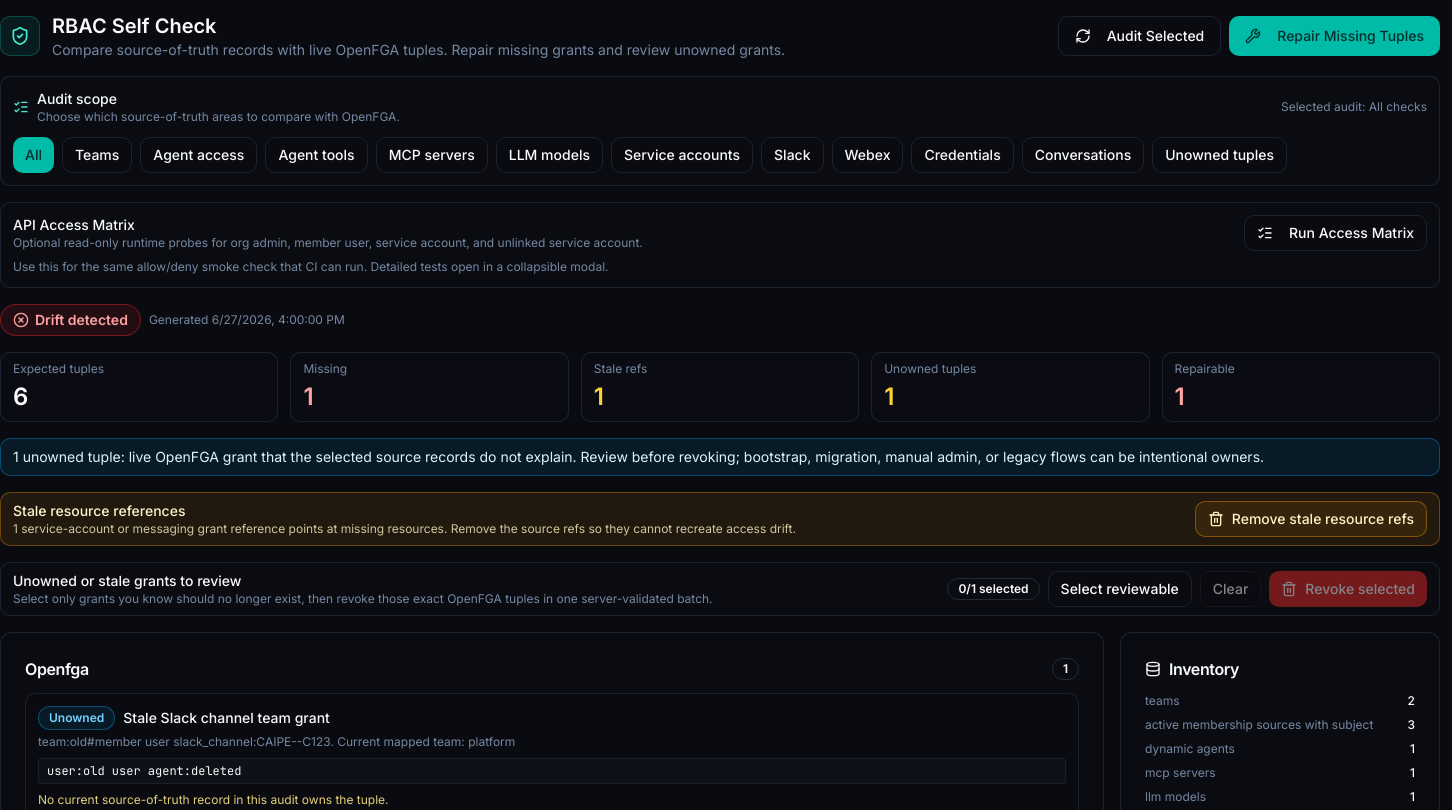
Test: bulk revokes selected review candidates and refreshes the report
Check: the text "Stale Slack channel team grant" is shown, box [123, 708, 330, 728]
Click the button "Select reviewable".
click(1120, 589)  # box [1048, 571, 1192, 607]
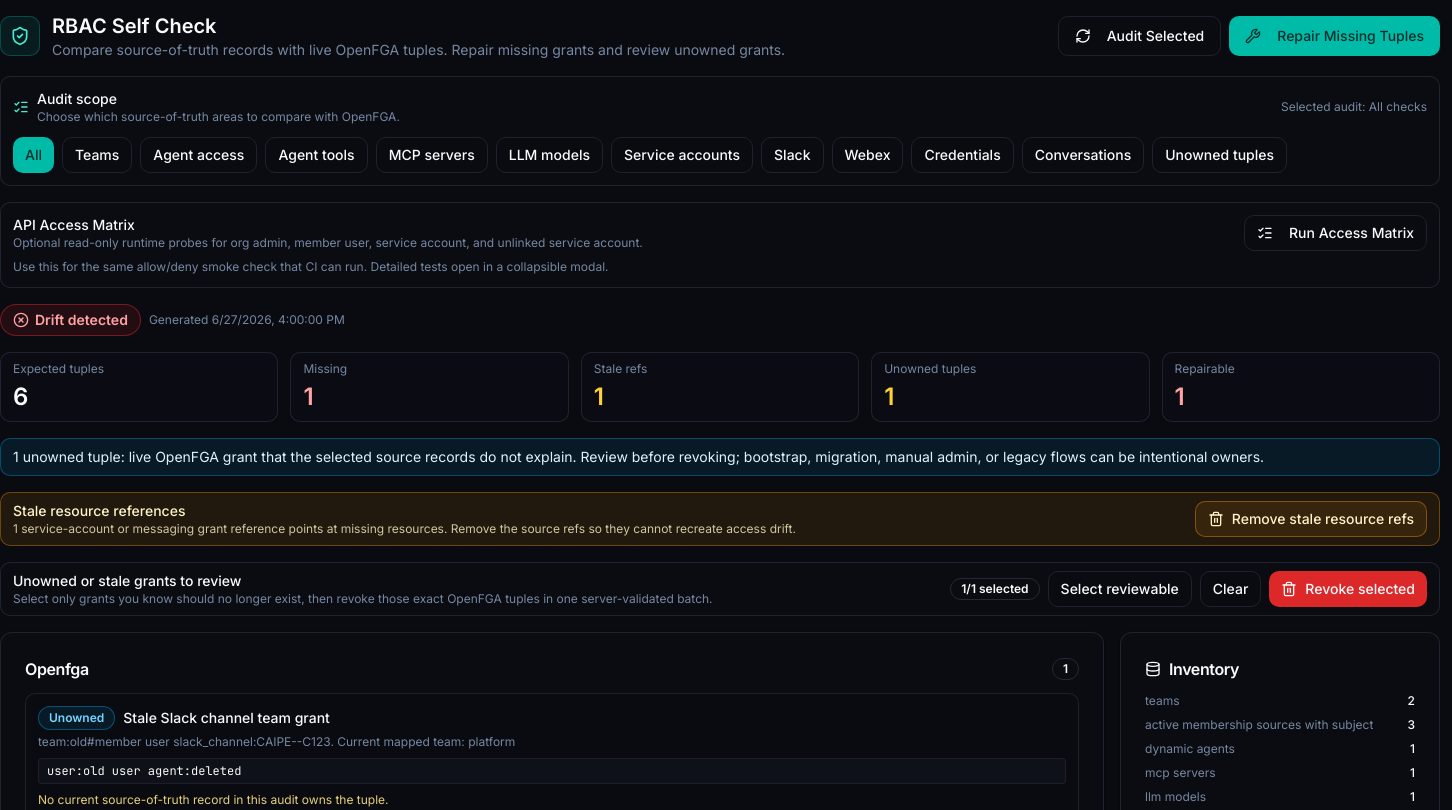
Check: the text "1/1 selected" is shown, box [950, 578, 1040, 600]
Click the button "Revoke selected".
click(1348, 589)  # box [1269, 571, 1427, 607]
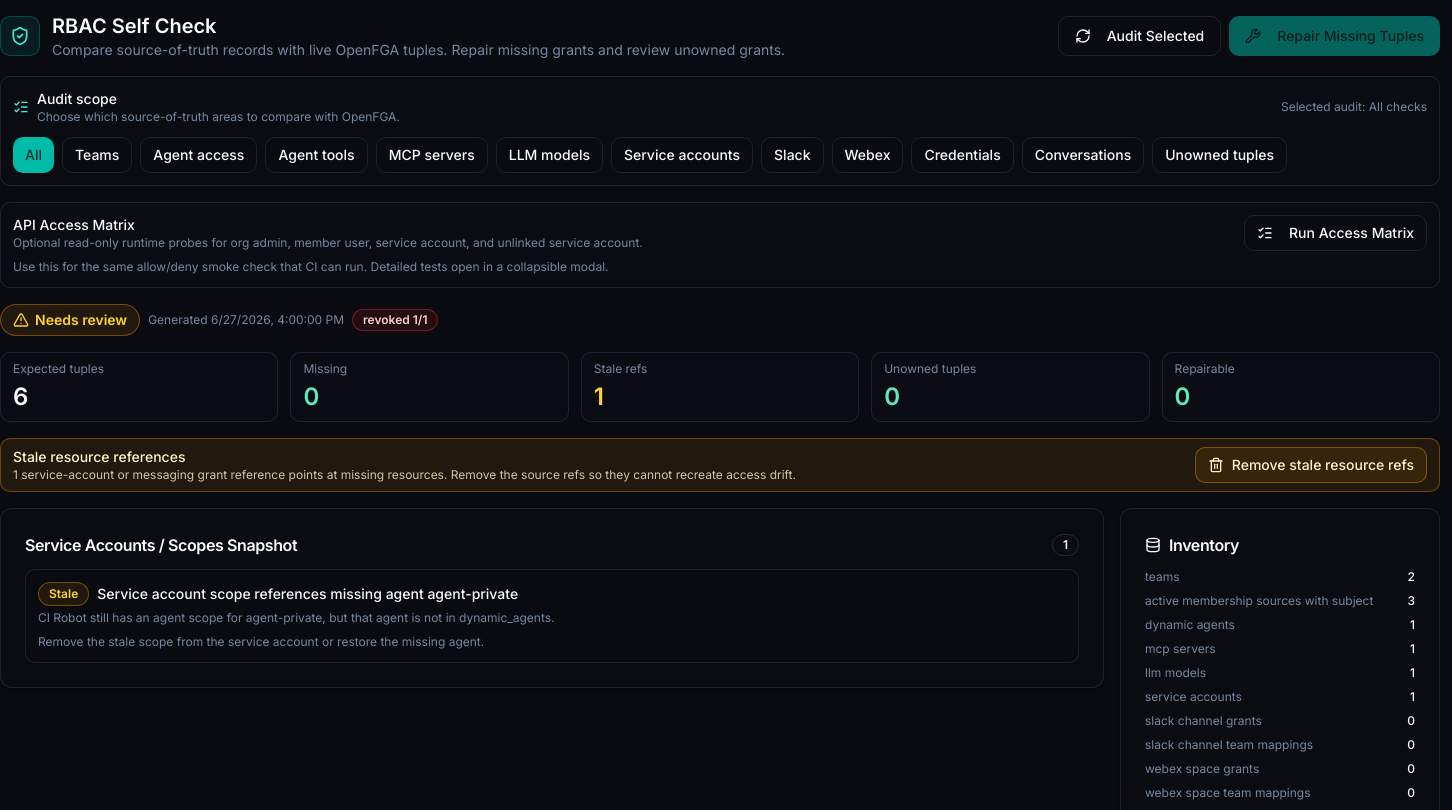
Check: the text "revoked 1/1" is shown, box [352, 309, 438, 331]
